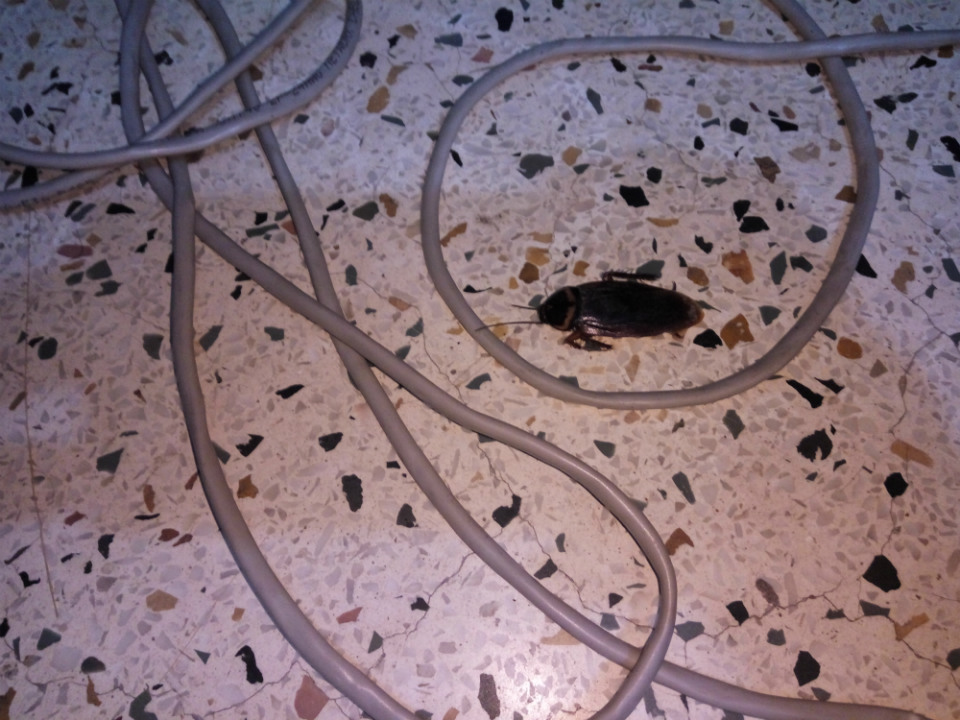cockroach: (484, 255, 730, 362)
